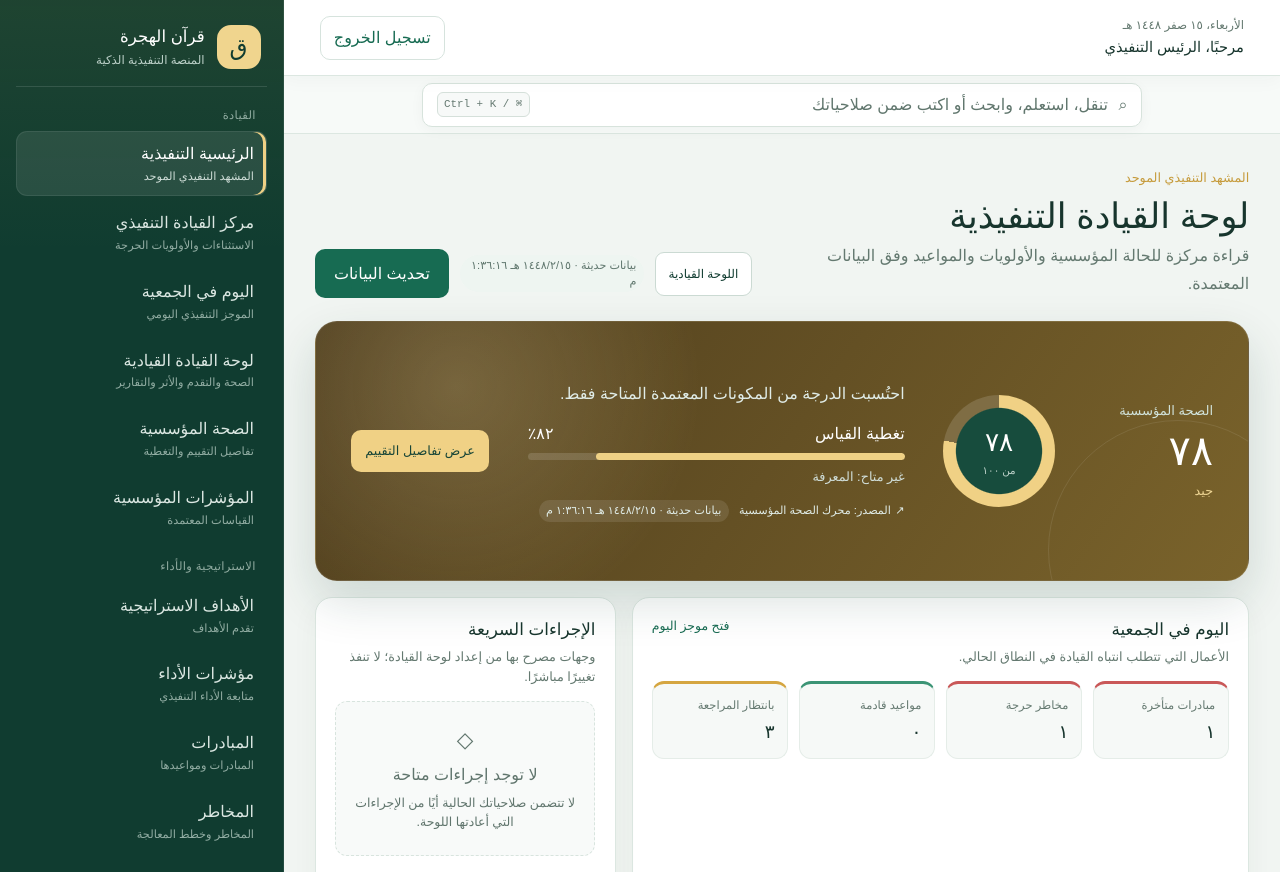
Test: Sprint 1C governed executive Smart Bar › keeps the full CEO journey connected without dead-end cards
Expected: the heading "لوحة القيادة التنفيذية" is shown, [949,196,1249,234]
Step 1. Click the link "فتح موجز اليوم" → (691, 626), box [652,617,729,636]
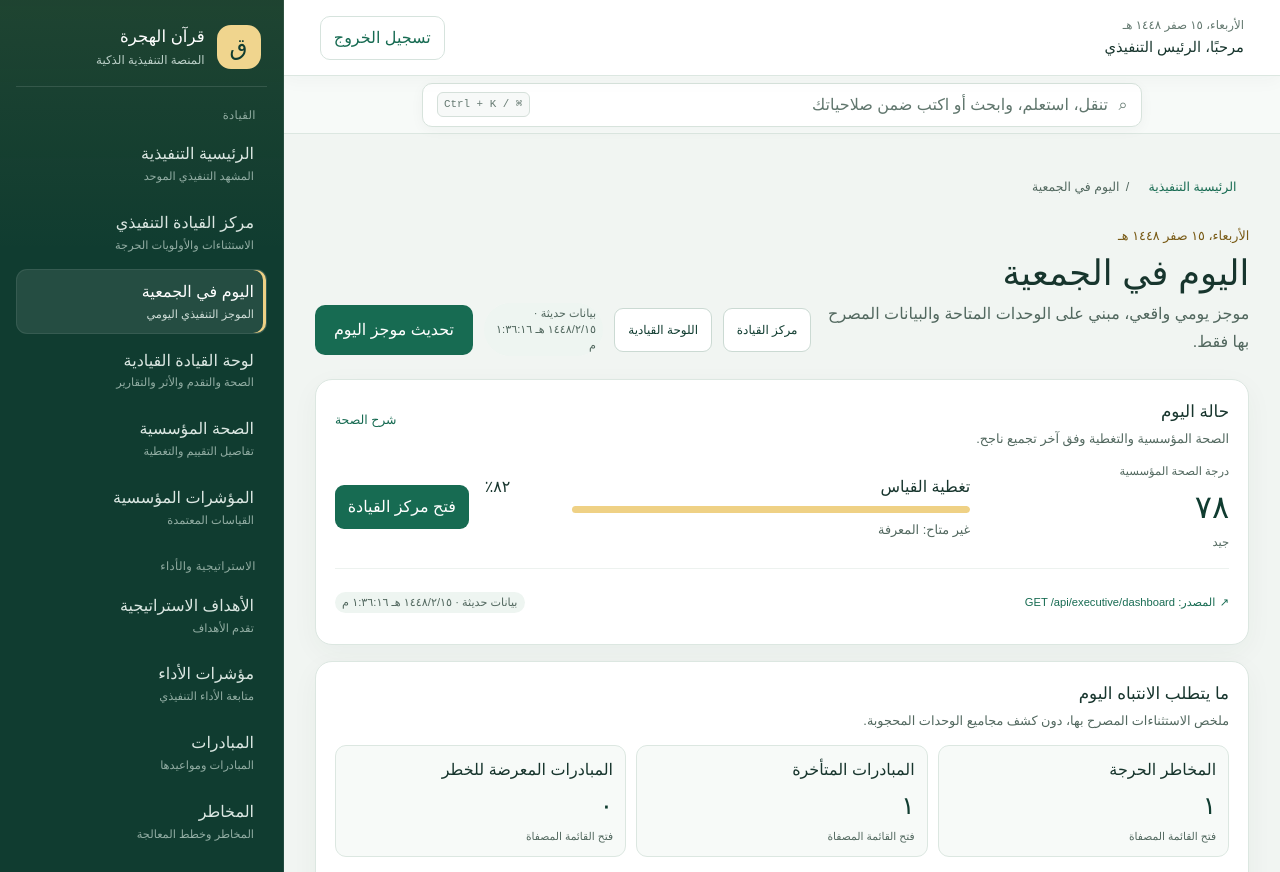
Now the heading "اليوم في الجمعية" is shown, box [1002,253,1249,292]
Step 2. Click the link "مركز القيادة" → (767, 330), box [723,308,811,352]
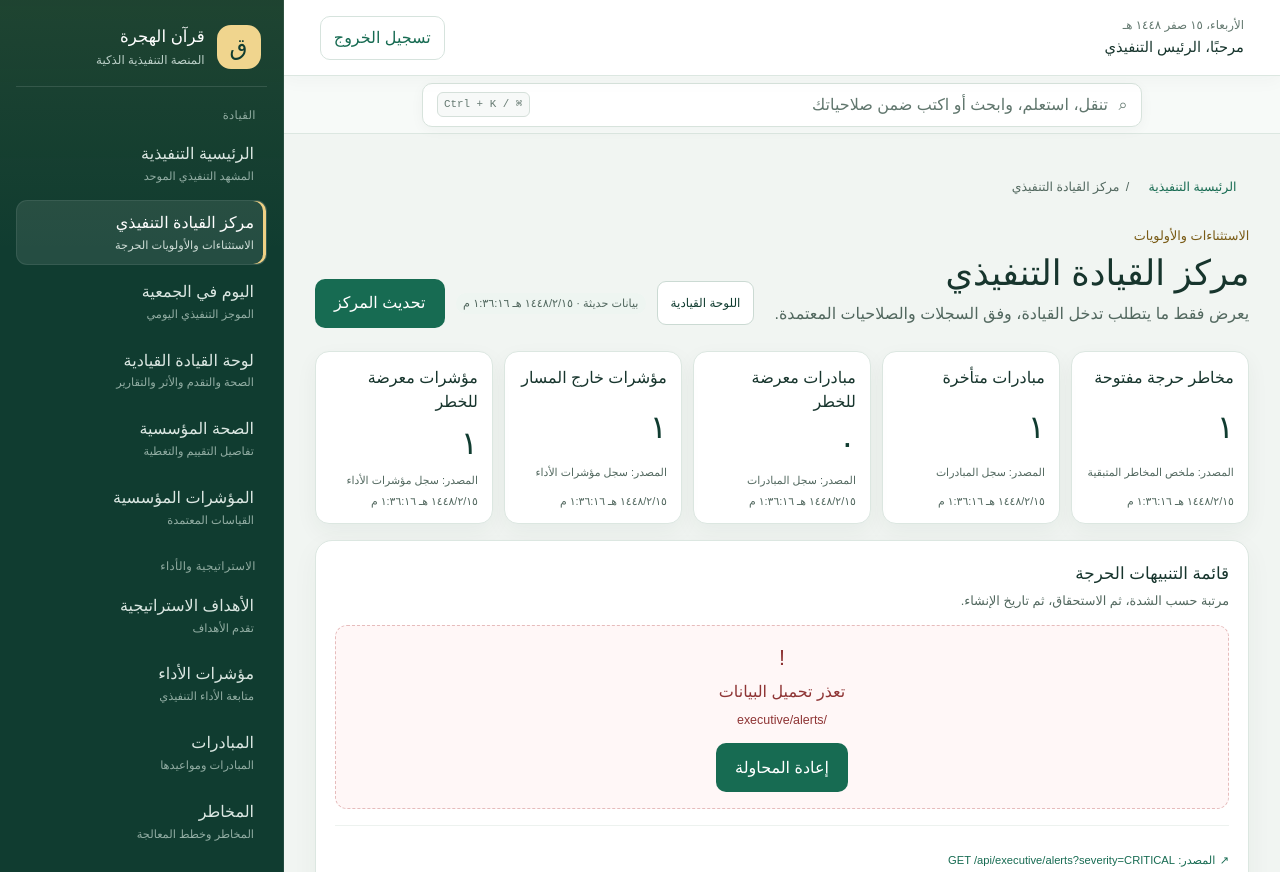
Now the heading "مركز القيادة التنفيذي" is shown, box [945,253,1249,292]
Step 3. Click the link "اللوحة القيادية" → (706, 303), box [657,281,754,325]
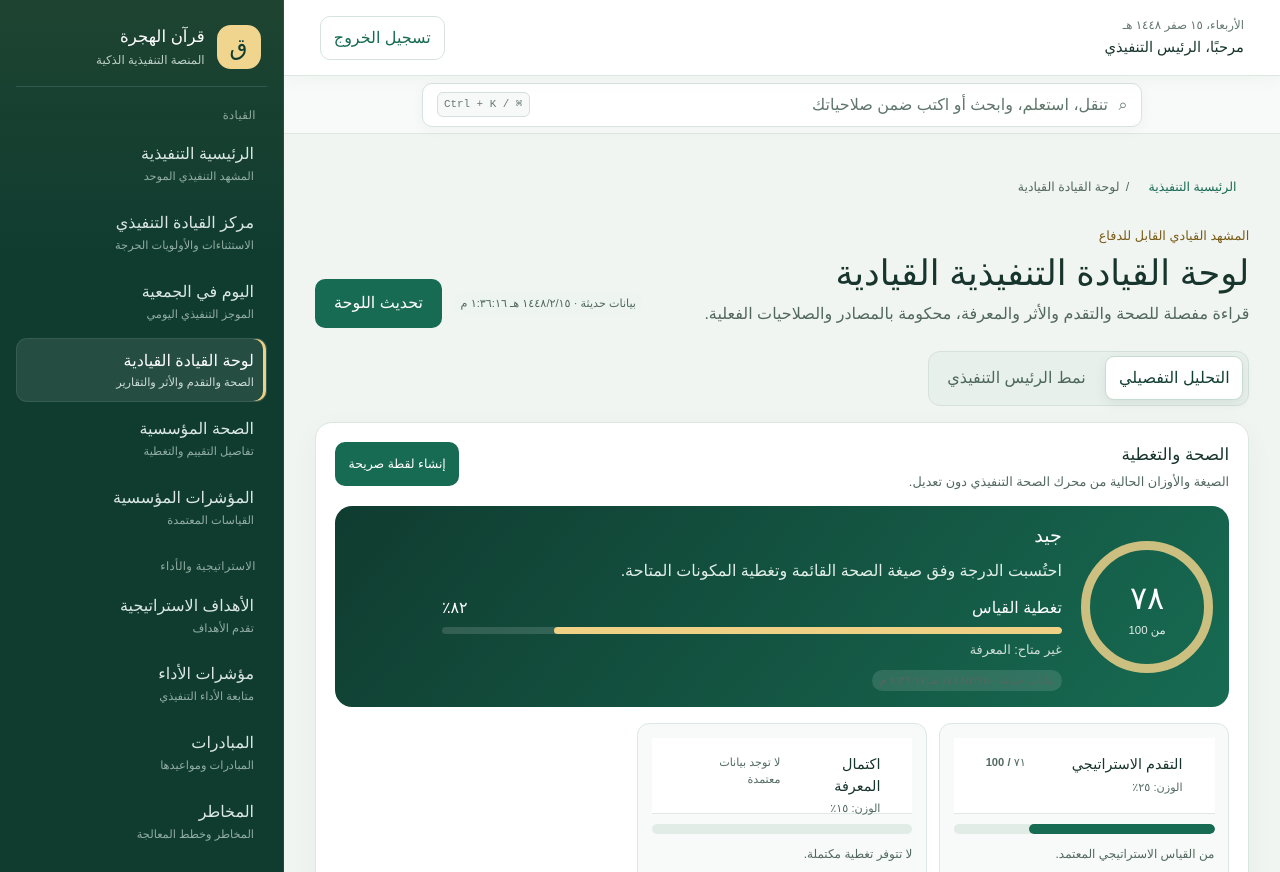
Now the navigation bar named "مسار الصفحة" is shown, box [1018,180,1236,194]
Now the heading "لوحة القيادة التنفيذية القيادية" is shown, box [835,253,1249,292]
